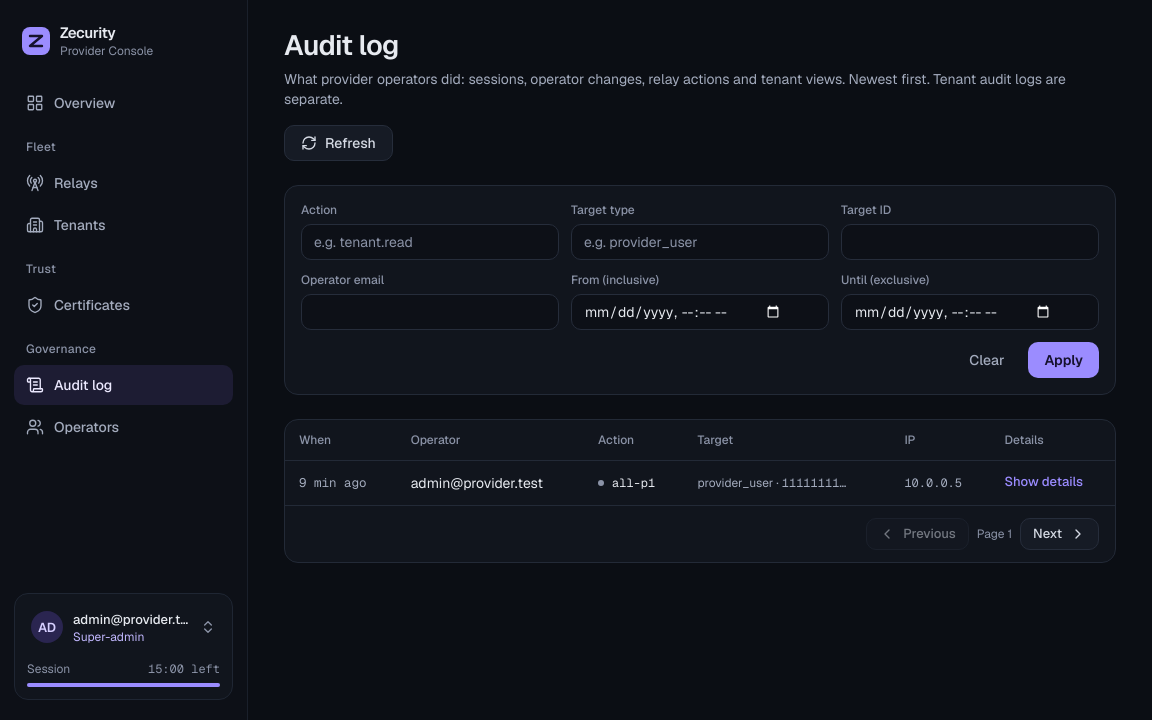
Test case: Audit: pagination › Next uses the returned cursor, Previous the stack; a filter change resets to page 1 with no foreign cursor
This screenshot has width=1152, height=720.
Expected: the text "all-p1" is shown, [584,460,684,504]
Click the button "Next" at (1060, 534), box [1020,518,1099,550]
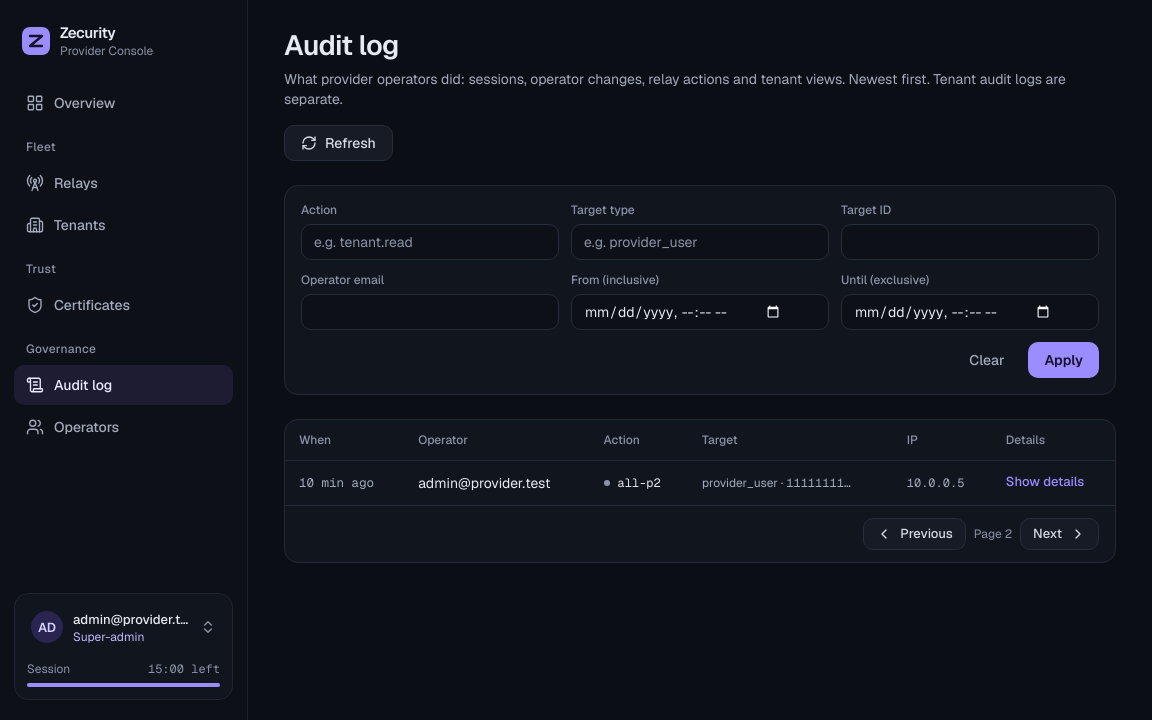
Now the text "all-p2" is shown, box [590,460,688,504]
Click the button "Next" at (1060, 534), box [1020,518,1099,550]
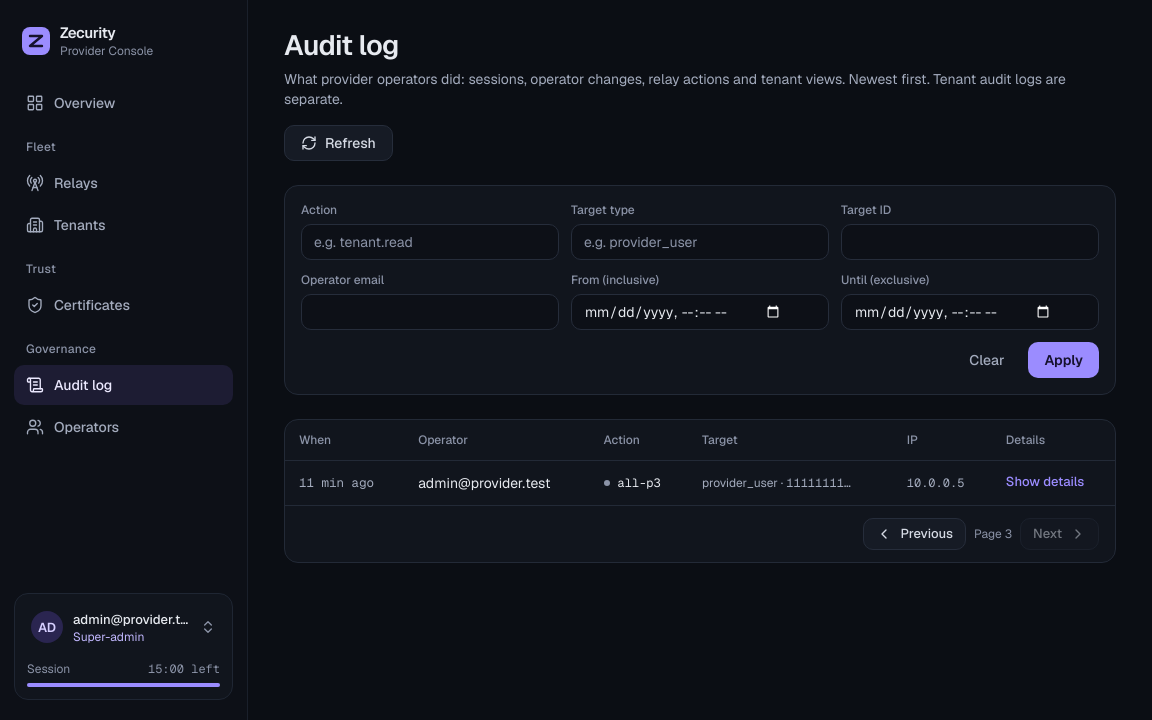
Now the text "all-p3" is shown, box [590,460,688,504]
Click the button "Previous" at (915, 534), box [863,518,966,550]
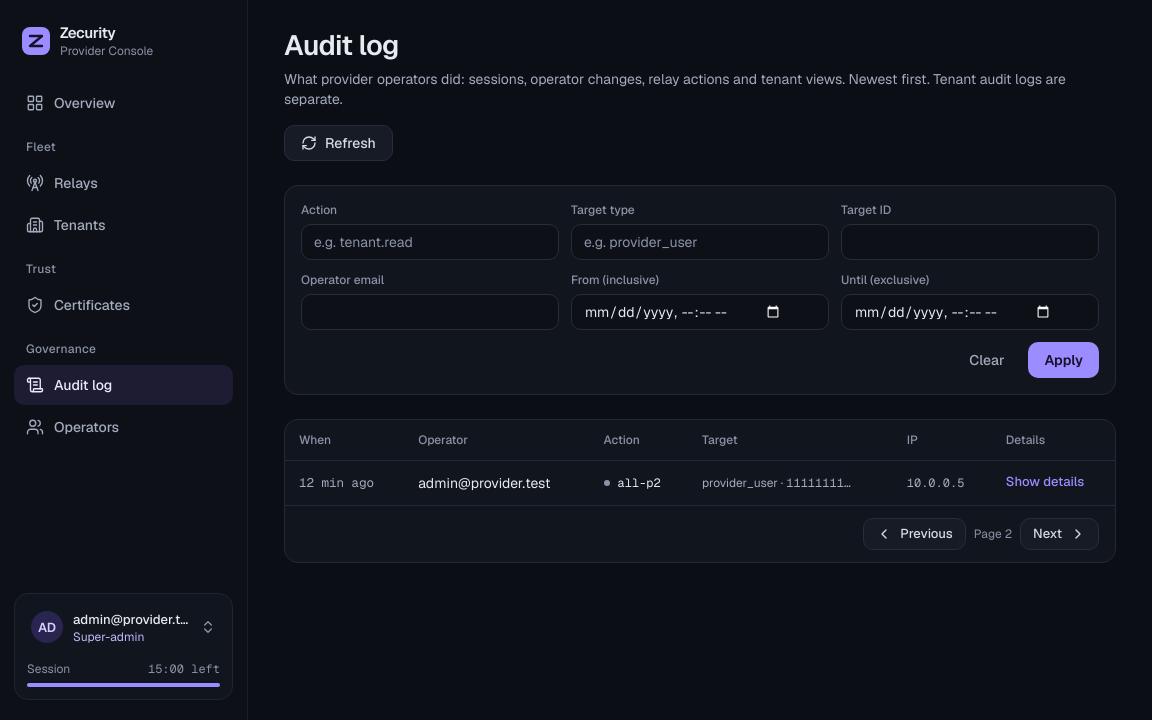
Now the text "all-p2" is shown, box [590,460,688,504]
Type "x" into the field labelled "Action" at (430, 242), box [301,224,559,260]
Then press Enter
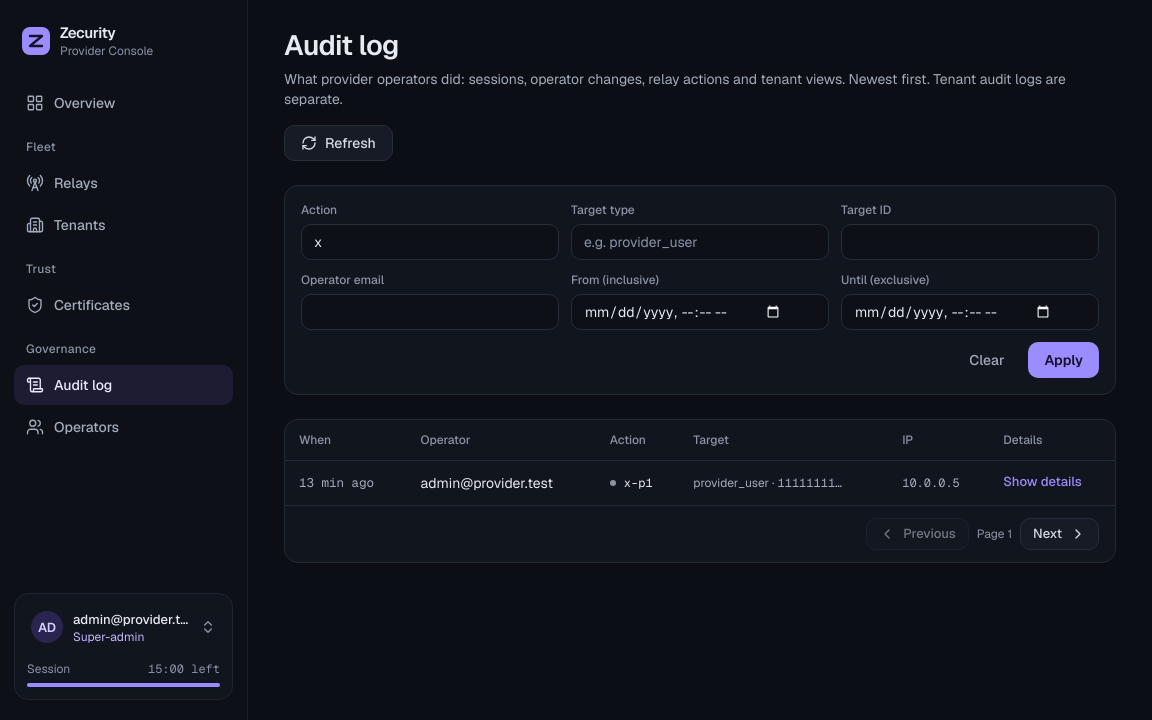
Now the text "x-p1" is shown, box [596,460,679,504]
Now the text "Page 1" is shown, box [977,526,1012,542]
